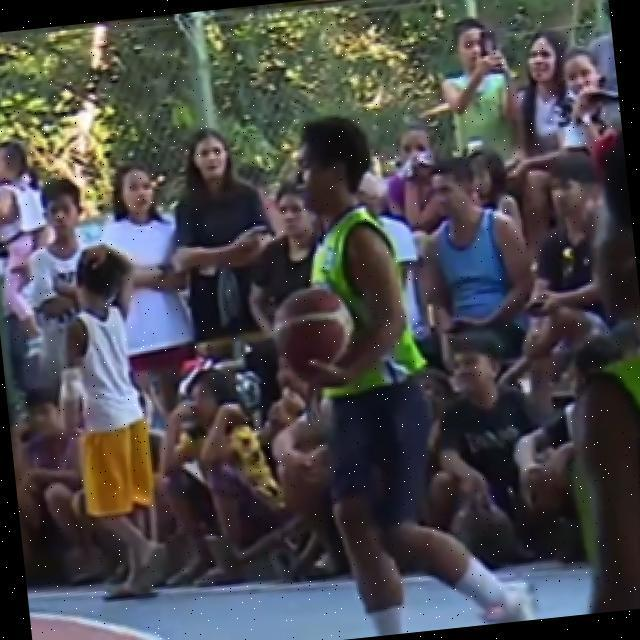ball: (261, 280, 367, 390)
